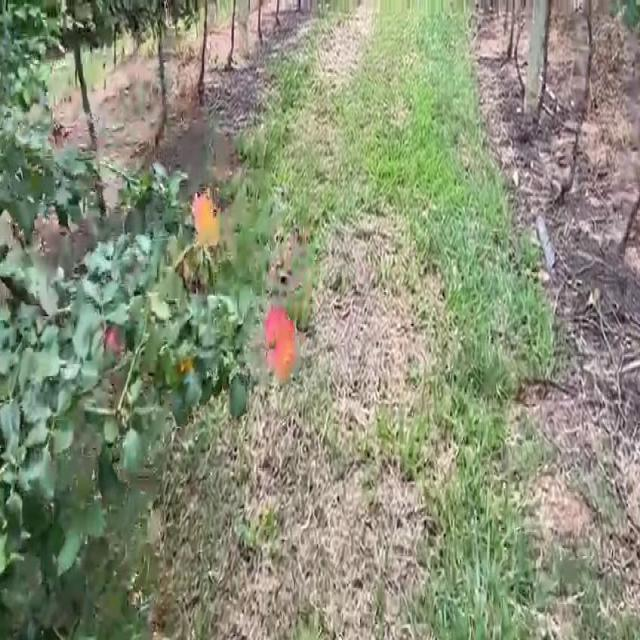tree trunk: (524, 0, 548, 120), (198, 0, 207, 104)
